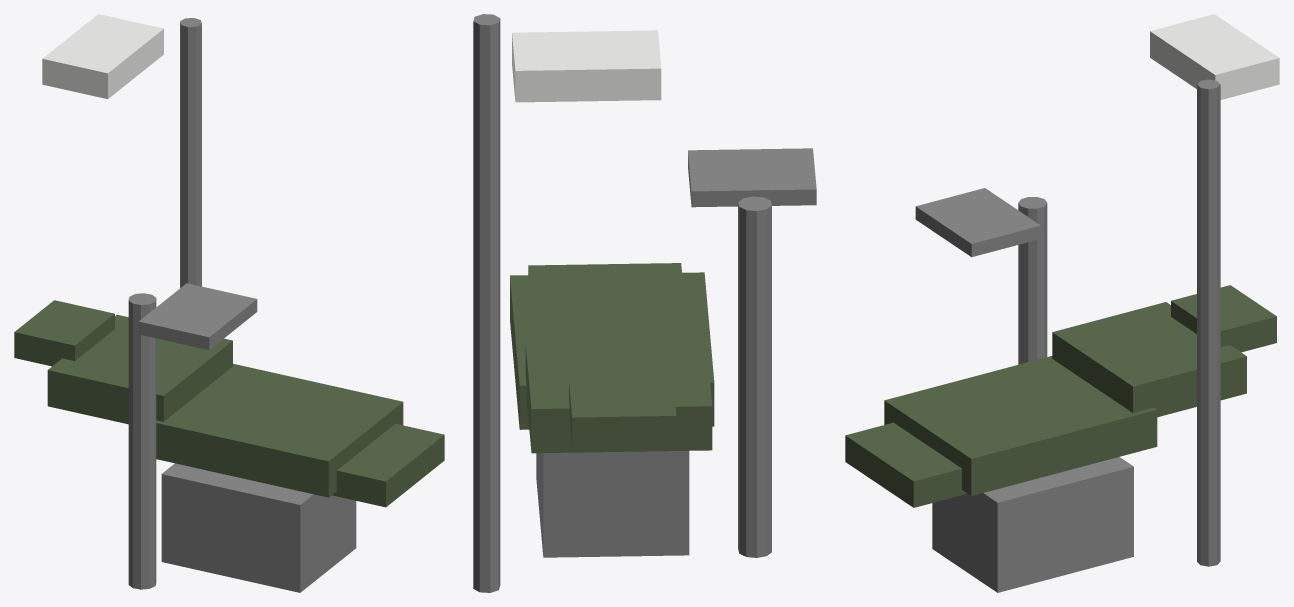
The picture shows the model from 3 angles, left to right: view 1: azimuth 30°, elevation 25°; view 2: azimuth 150°, elevation 25°; view 3: azimuth 270°, elevation 25°; orthographic projection. The views are drawn at different scales.
Visible parts, largest first — view 1: sillon_ortho_6; view 2: sillon_ortho_6; view 3: sillon_ortho_6.
Part boxes in pixels (<box>): sillon_ortho_6: <box>14,14,444,592</box>; sillon_ortho_6: <box>473,14,816,592</box>; sillon_ortho_6: <box>845,14,1279,592</box>.
Size of the model in its own units: 1.12 by 1.48 by 1.8.
